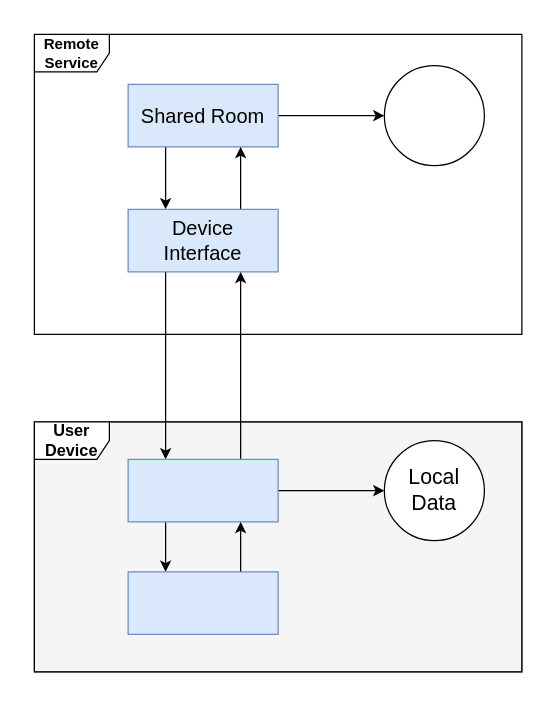
The diagram is 555 pixels wide and 705 high, and some of its shapes have lost their labels. The shapes that lost their labels are listed below. From the top down, each one's centre as x and y in pixels, then its label:
At point 433,115: "Shared Data".
At point 202,490: "Local Interaction".
At point 202,602: "Local Device Configuration".
